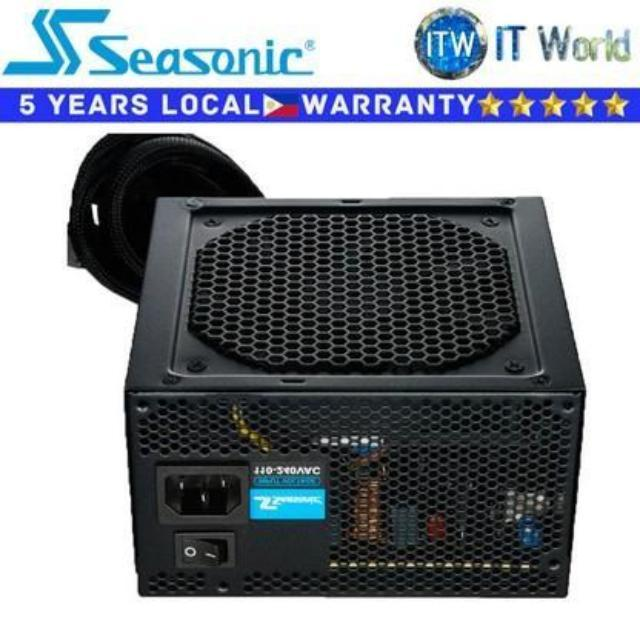PSU: (120, 192, 583, 606)
